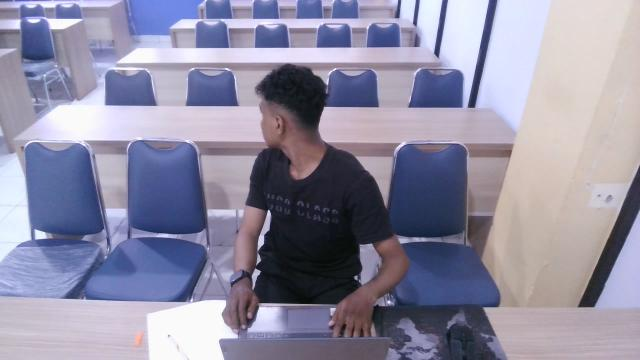Turning_Back: (217, 56, 398, 259)
